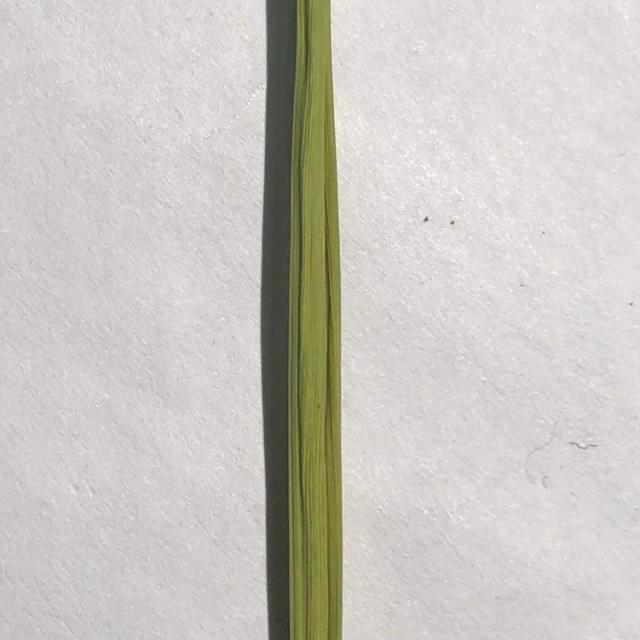healthy: (258, 1, 361, 640)
